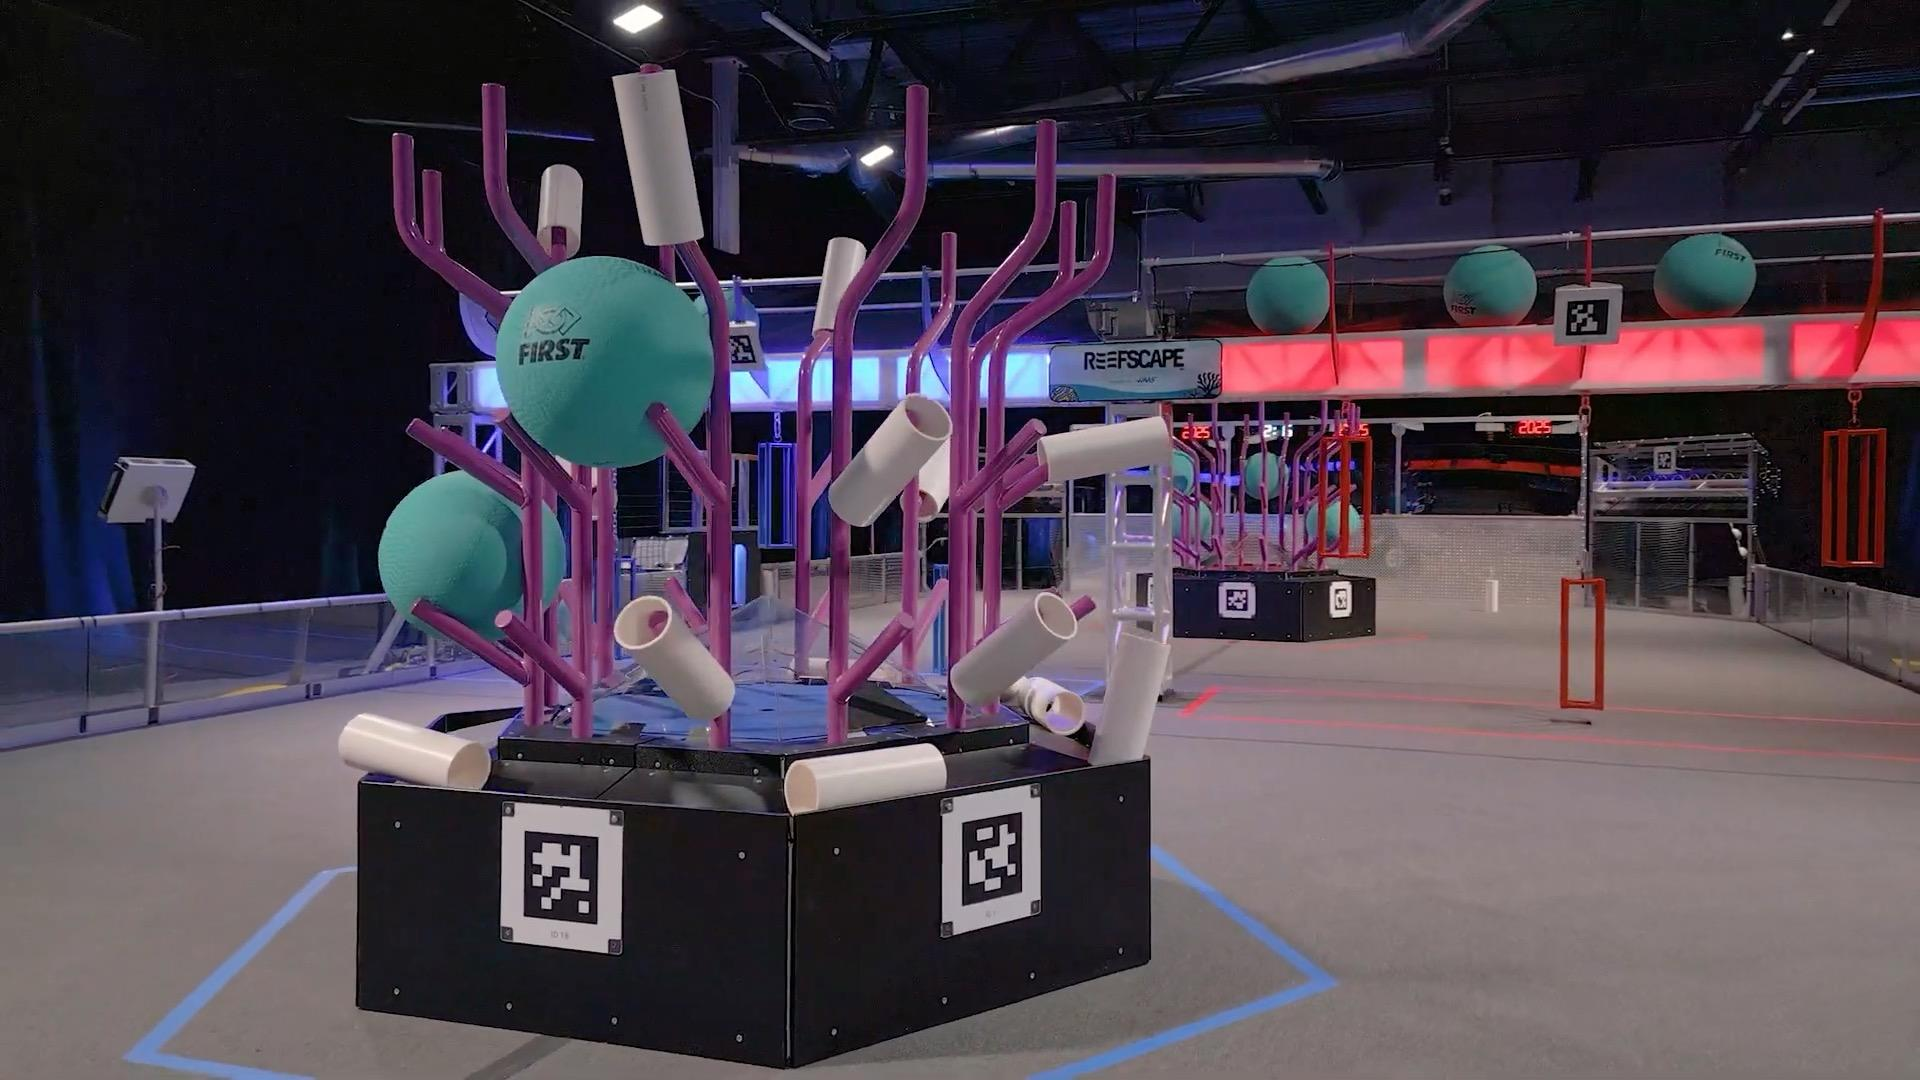ALGAE: (493, 252, 715, 468), (376, 467, 564, 644), (1652, 231, 1756, 318), (1443, 243, 1538, 326), (1245, 255, 1331, 335), (1303, 497, 1362, 546), (1240, 450, 1284, 501)
CORAL: (825, 392, 952, 527), (611, 65, 704, 247), (947, 588, 1087, 705), (612, 592, 735, 721), (782, 738, 947, 814), (338, 709, 489, 790), (1087, 632, 1174, 767), (1034, 413, 1172, 483), (810, 237, 868, 347), (1000, 673, 1084, 735), (538, 165, 583, 258)
